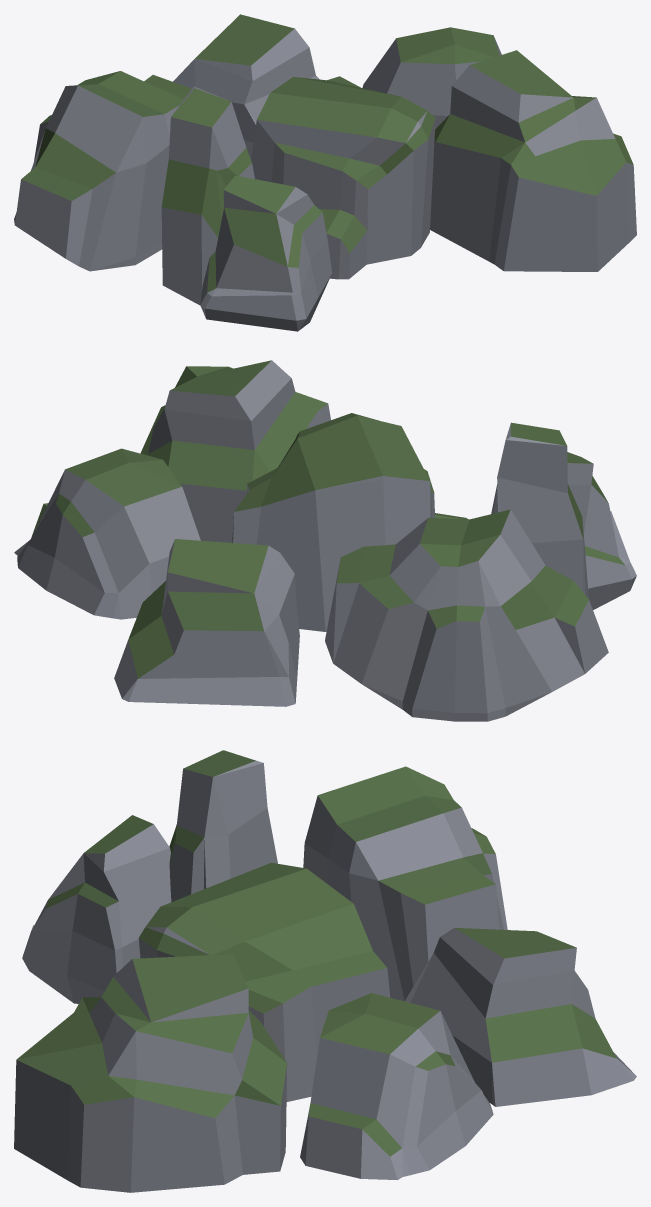
Rendered from rocks_moss.glb.
3 views of the same model, one above another, from view 1: azimuth 30°, elevation 25°; view 2: azimuth 150°, elevation 25°; view 3: azimuth 270°, elevation 25° (orthographic). The views are drawn at different scales.
Visible parts, largest first — view 1: Rock_Moss_5; view 2: Rock_Moss_5; view 3: Rock_Moss_5.
Part boxes in pixels (left/top/right/bottom): Rock_Moss_5: left=14, top=14, right=636, bottom=331; Rock_Moss_5: left=14, top=360, right=636, bottom=721; Rock_Moss_5: left=14, top=750, right=636, bottom=1192.
Bounding box in the file's own units: 2.87 × 0.9801 × 2.5.
